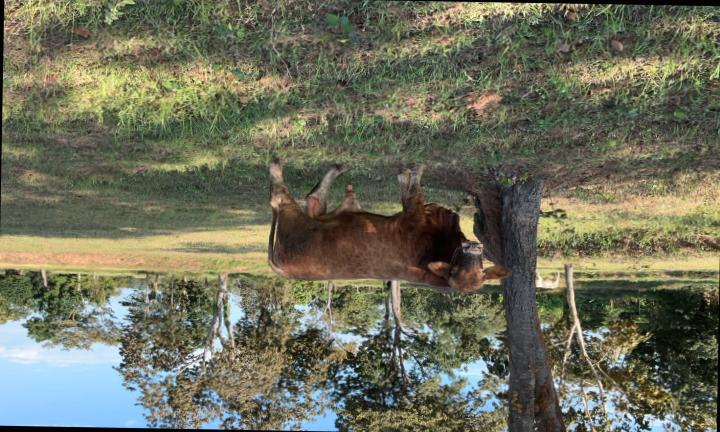Charolais: (268, 160, 511, 292)
